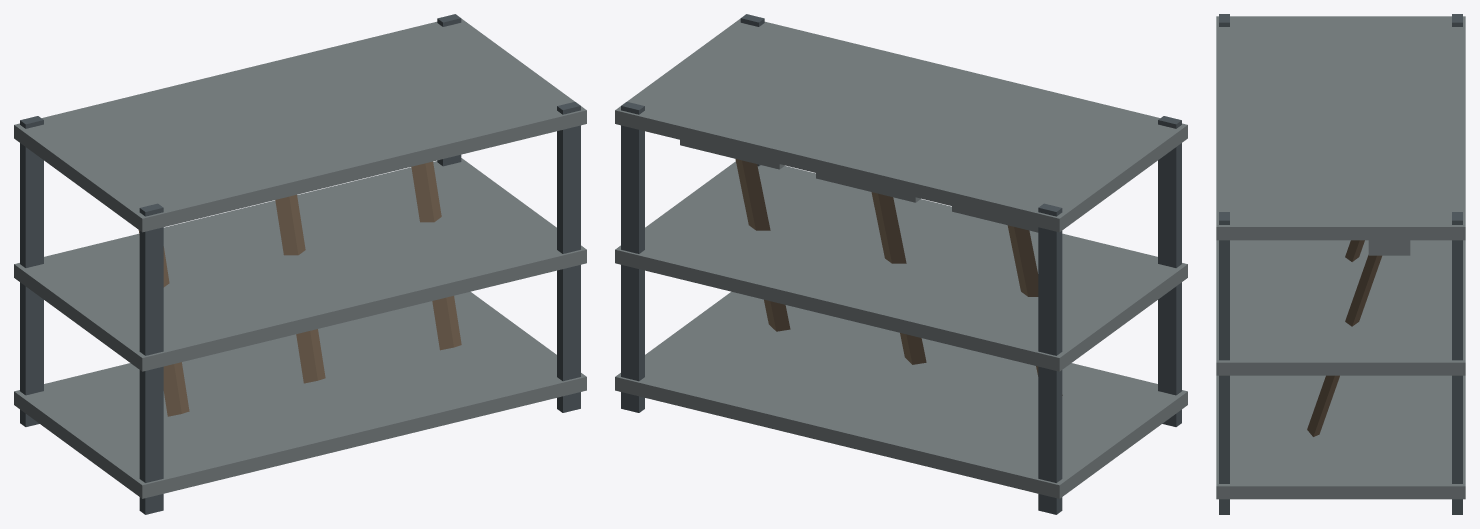
File: tool_rack.glb
3 views of the same model, side by side, from view 1: azimuth 30°, elevation 25°; view 2: azimuth 150°, elevation 25°; view 3: azimuth 270°, elevation 25° (orthographic). The views are drawn at different scales.
Parts seen in each view (by area): view 1: tool_rack; view 2: tool_rack; view 3: tool_rack.
Boxes of the visible parts, bbox=[...] form: tool_rack: bbox=[14, 14, 586, 514]; tool_rack: bbox=[615, 14, 1187, 514]; tool_rack: bbox=[1216, 14, 1465, 514].
Bounding box in the file's own units: 1.92 × 1.25 × 0.96.
